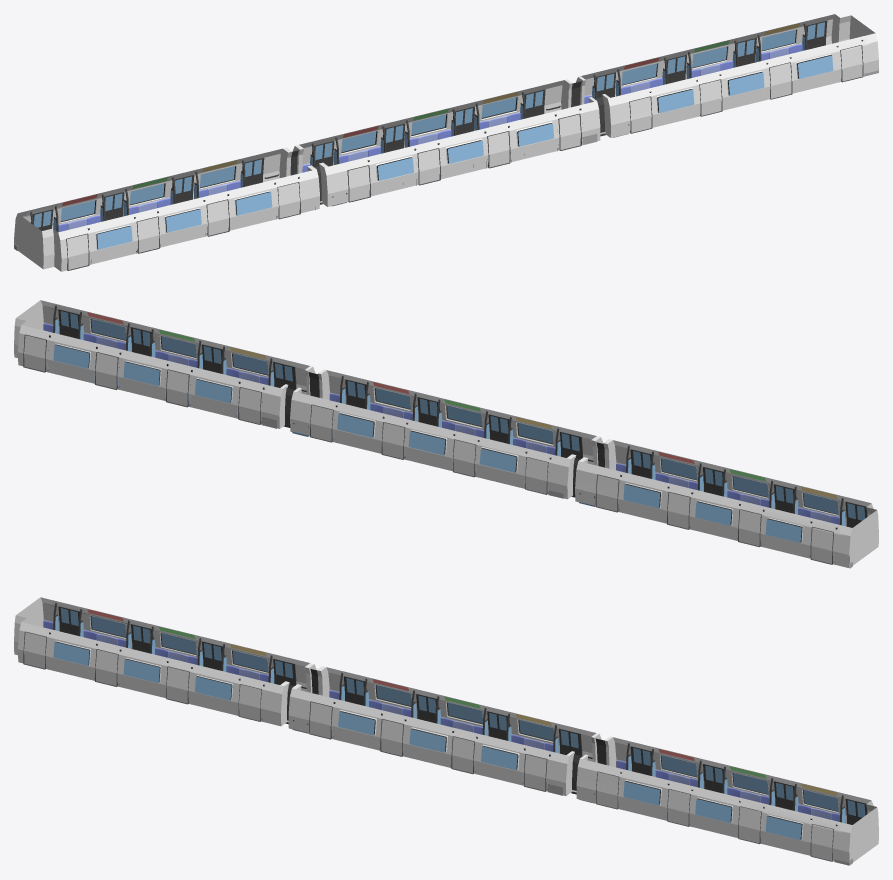
The model's file is Train V4.fbx.
3 views of the same model, one above another, from view 1: azimuth 30°, elevation 25°; view 2: azimuth 150°, elevation 25°; view 3: azimuth 330°, elevation 25° (orthographic).
Parts seen in each view (by area): view 1: Train_cabin (×2), pasted__pPlane767; view 2: Train_cabin (×2), pasted__pPlane767; view 3: Train_cabin (×2), pasted__pPlane767.
Boxes of the visible parts, x1=… form: Train_cabin (×2): x1=292, y1=14, x2=878, y2=206; pasted__pPlane767: x1=14, y1=147, x2=319, y2=271; Train_cabin (×2): x1=14, y1=300, x2=603, y2=499; pasted__pPlane767: x1=575, y1=439, x2=878, y2=568; Train_cabin (×2): x1=288, y1=666, x2=878, y2=862; pasted__pPlane767: x1=14, y1=597, x2=316, y2=726.
Bounding box in the file's own units: 91.08 × 4.09 × 7.39.
1 material, 1 textured.
